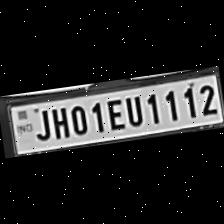0: (66, 102, 91, 138)
1: (158, 86, 181, 124), (142, 90, 164, 127), (85, 100, 106, 136), (178, 84, 197, 121)
2: (194, 81, 218, 119)
E: (102, 95, 127, 132)
H: (47, 103, 71, 140)
J: (29, 106, 52, 142)
U: (122, 92, 146, 128)
